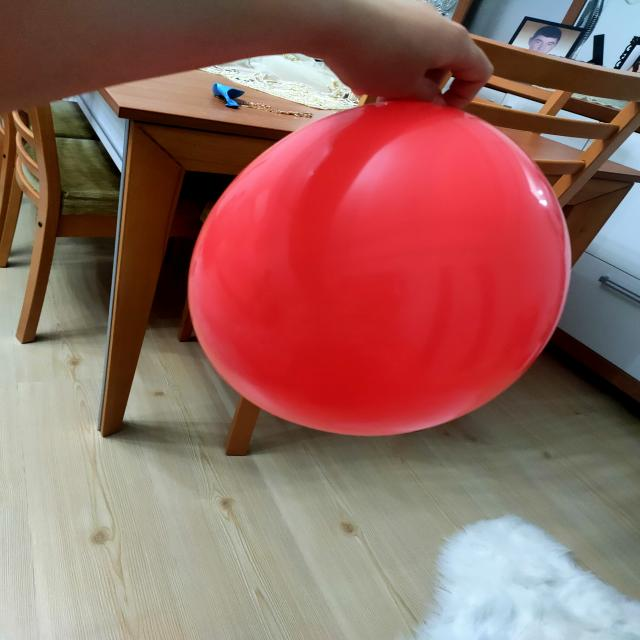red: (189, 103, 570, 436)
